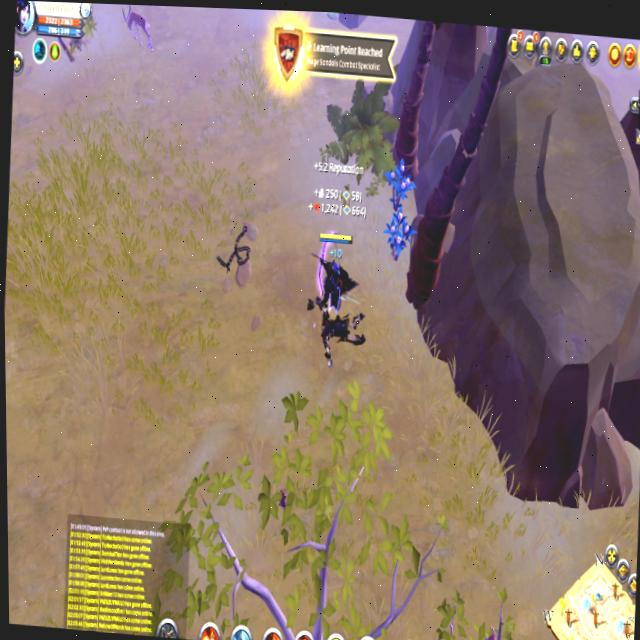hide: (382, 206, 416, 267), (383, 152, 418, 211)
ore: (113, 4, 159, 55)
red: (309, 226, 356, 329)
